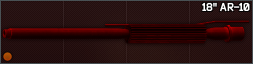AR-10 7.62x51 18 inch barrel: (0, 0, 253, 64)
